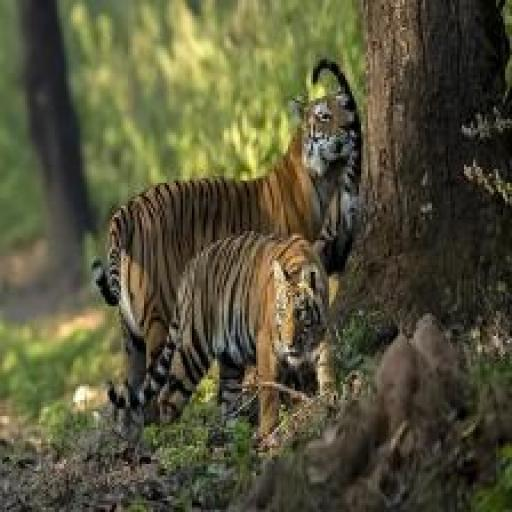Tiger: (82, 84, 357, 334), (151, 222, 344, 432)
